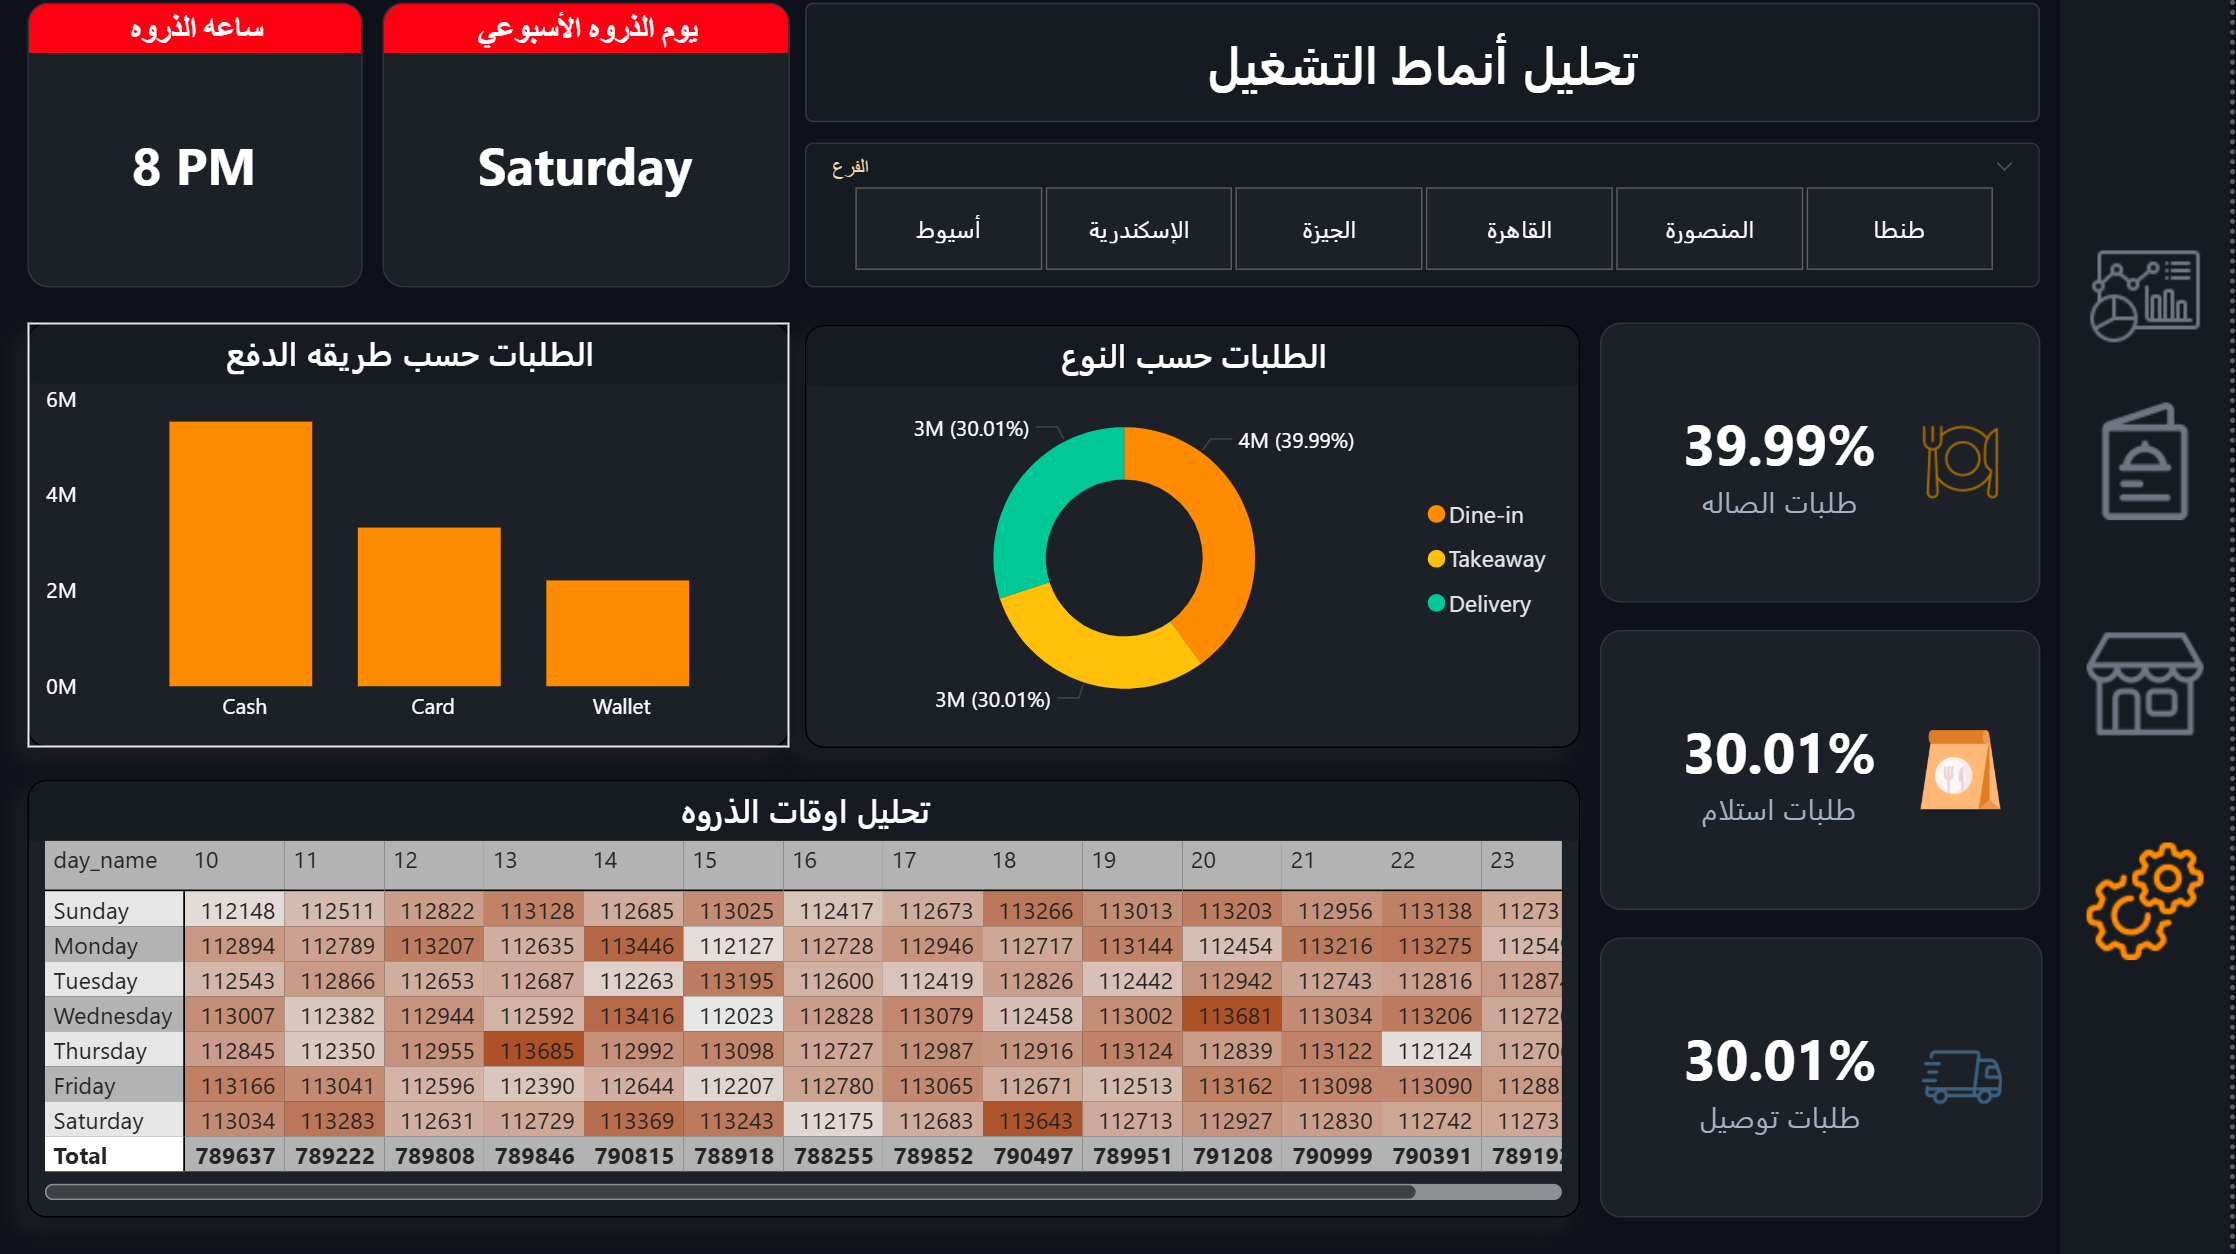

Layout of this report page (visuals, bound fields, positions):
{"tool":"powerbi","page":{"name":"Operational Excellence","canvas":[1280,720],"ordinal":3},"visuals":[{"type":"pivotTable","title":"تحليل اوقات الذروه","fields":{"Rows":["gold_dim_date.day_name"],"Columns":["gold_fact_sales.hour"],"Values":["Generated_Measures.Total Orders"]},"box":[21.4,448.6,887.1,250],"z":0},{"type":"donutChart","title":"الطلبات حسب النوع","fields":{"Category":["gold_dim_order_attr.order_type"],"Y":["Generated_Measures.Total Orders"]},"box":[465.7,188.6,442.9,241.4],"z":1000},{"type":"cardVisual","fields":{"Data":["Generated_Measures.% Delivery Orders"]},"box":[920,538.6,252.9,160],"z":2000},{"type":"cardVisual","fields":{"Data":["Generated_Measures.% Takeaway Orders"]},"box":[920,362.9,251.4,160],"z":3000},{"type":"cardVisual","fields":{"Data":["Generated_Measures.% Dine-in Orders"]},"box":[920,187.1,251.4,160],"z":4000},{"type":"clusteredColumnChart","title":"الطلبات حسب طريقه الدفع","fields":{"Y":["Generated_Measures.Total Orders"],"Category":["gold_dim_order_attr.payment_method"]},"box":[21.4,187.1,435.7,242.9],"z":5000},{"type":"cardVisual","title":"ساعه الذروه","fields":{"Data":["Generated_Measures.Busiest Hour"]},"box":[21.4,4.3,191.4,162.9],"z":6000},{"type":"cardVisual","title":"يوم الذروه الأسبوعي","fields":{"Data":["Generated_Measures.Busiest Day"]},"box":[224.3,4.3,232.9,162.9],"z":7000},{"type":"group","id":"g1","title":"Group 1","box":[1182.9,0,97.1,720],"z":8000},{"type":"shape","box":[465.7,4.3,705.7,68.6],"z":9000},{"type":"slicer","title":"الفرع","fields":{"Values":["gold_dim_branch.branch"]},"box":[465.7,84.3,705.7,82.9],"z":10000},{"type":"shape","box":[1182.9,0,97.1,720],"z":11000,"group":"g1"},{"type":"image","box":[1182.9,138.6,97.1,67.1],"z":13000,"group":"g1"},{"type":"image","box":[1182.9,484.3,97.1,67.1],"z":14000,"group":"g1"},{"type":"image","box":[1182.9,232.9,97.1,67.1],"z":15000,"group":"g1"},{"type":"image","box":[1182.9,360,97.1,67.1],"z":16000,"group":"g1"}]}

Visuals, with their boxes in screenshot pixels (x1, y1, x2, y2), scaled from the page's 1280x720 canvas onto the 2236x1254 screenshot:
"تحليل اوقات الذروه" pivotTable: x1=37, y1=781, x2=1587, y2=1217
"الطلبات حسب النوع" donutChart: x1=814, y1=328, x2=1587, y2=749
cardVisual - Generated_Measures.% Delivery Orders: x1=1607, y1=938, x2=2049, y2=1217
cardVisual - Generated_Measures.% Takeaway Orders: x1=1607, y1=632, x2=2046, y2=911
cardVisual - Generated_Measures.% Dine-in Orders: x1=1607, y1=326, x2=2046, y2=605
"الطلبات حسب طريقه الدفع" clusteredColumnChart: x1=37, y1=326, x2=798, y2=749
"ساعه الذروه" cardVisual: x1=37, y1=7, x2=372, y2=291
"يوم الذروه الأسبوعي" cardVisual: x1=392, y1=7, x2=799, y2=291
"Group 1" group: x1=2066, y1=0, x2=2235, y2=1253
shape: x1=814, y1=7, x2=2046, y2=127
"الفرع" slicer: x1=814, y1=147, x2=2046, y2=291
shape: x1=2066, y1=0, x2=2235, y2=1253
image: x1=2066, y1=241, x2=2235, y2=358
image: x1=2066, y1=843, x2=2235, y2=960
image: x1=2066, y1=406, x2=2235, y2=522
image: x1=2066, y1=627, x2=2235, y2=744
